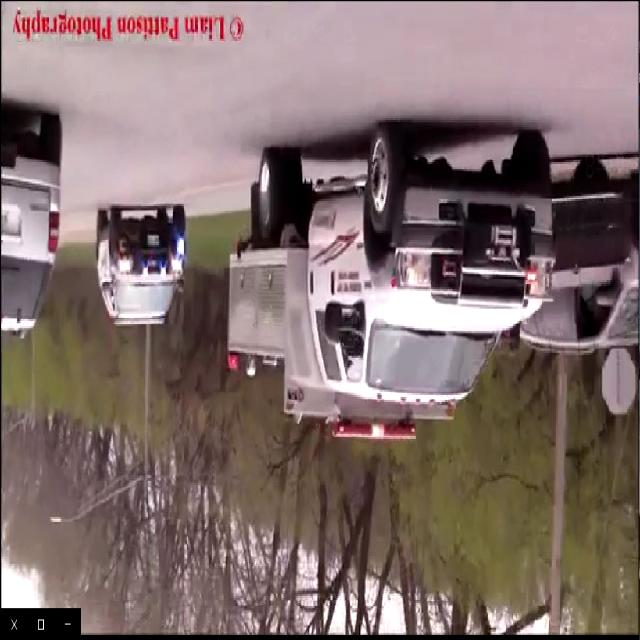emergency: (229, 110, 557, 450), (92, 202, 186, 329)
